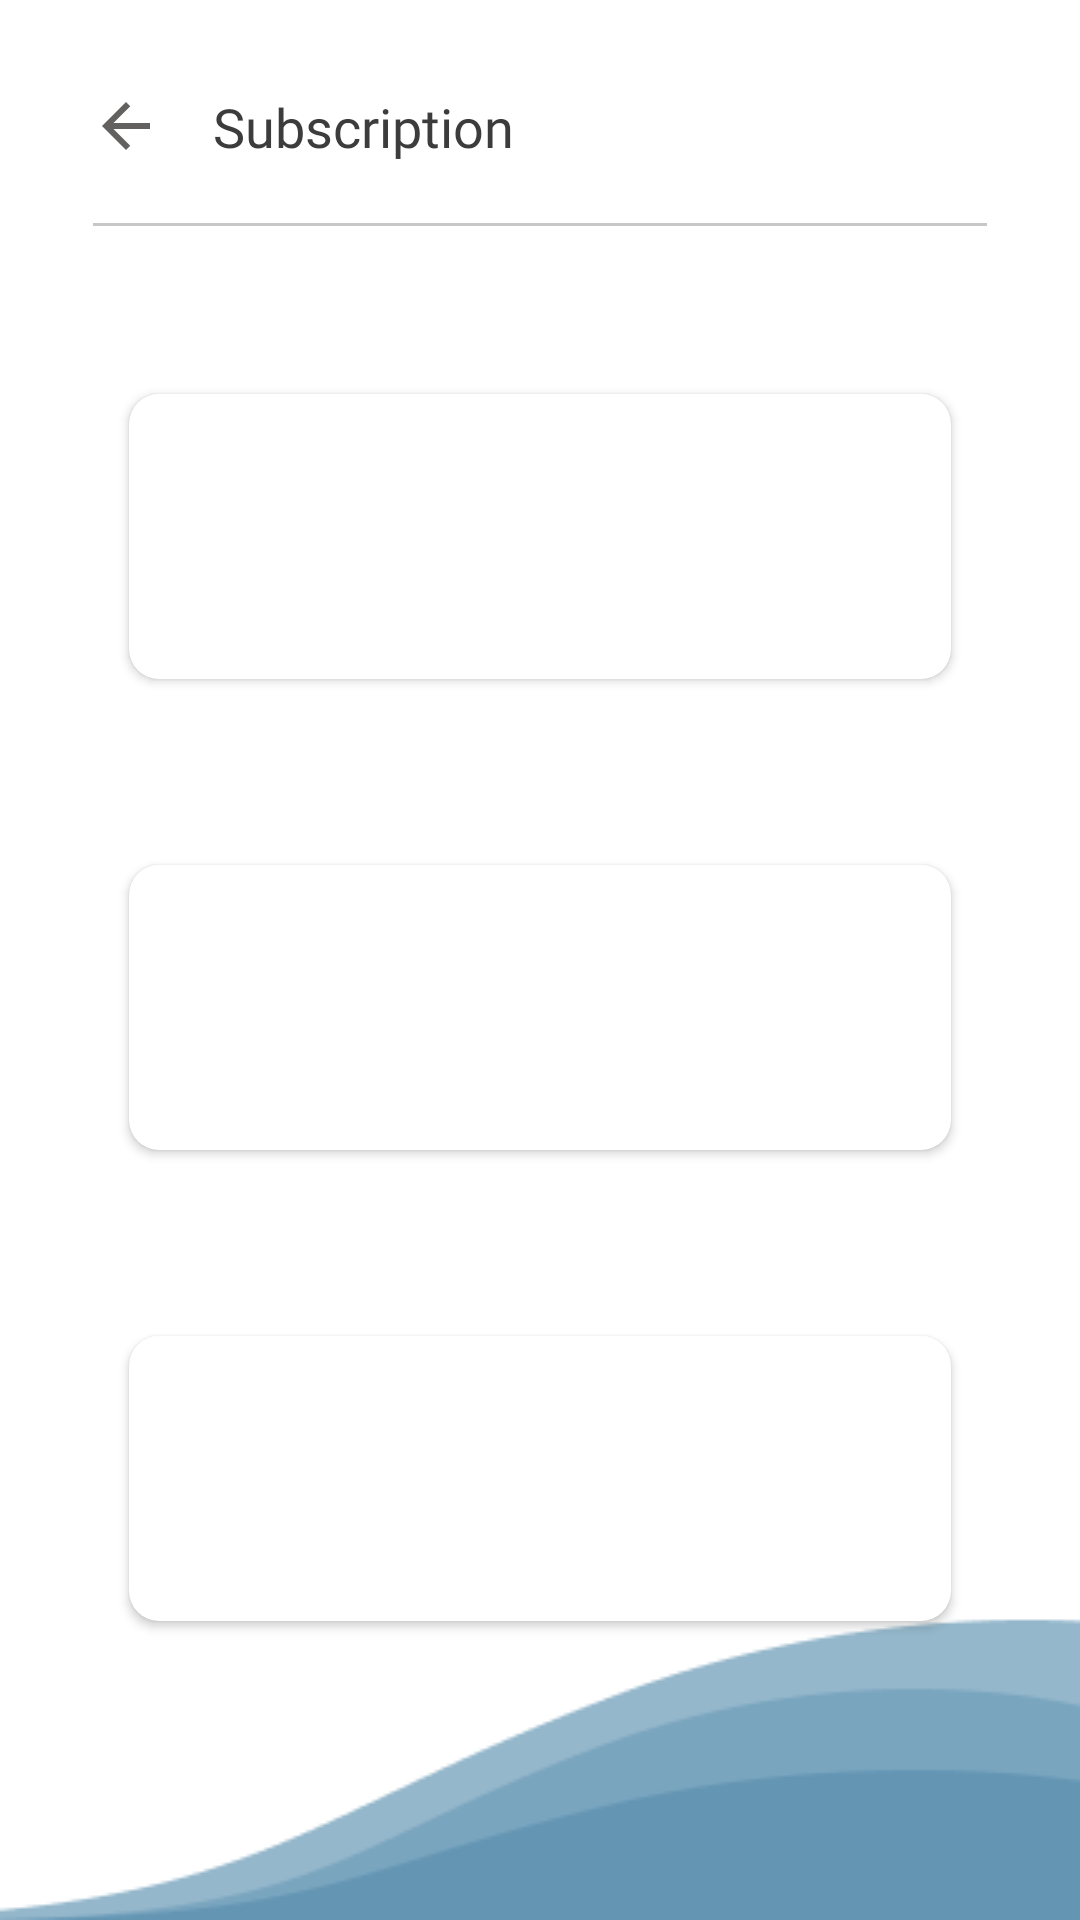

Icon click points for this 1080w x 1920h phone screenshot, format (x,y):
arrow back: (126,126)
